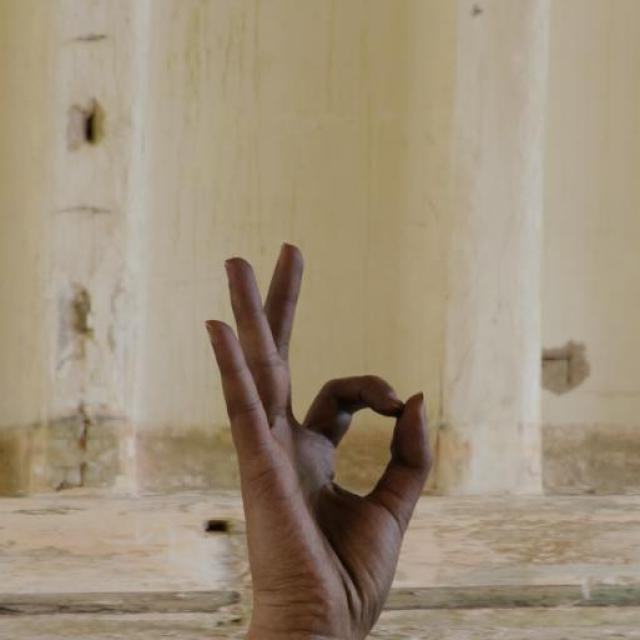F: (199, 245, 439, 640)
